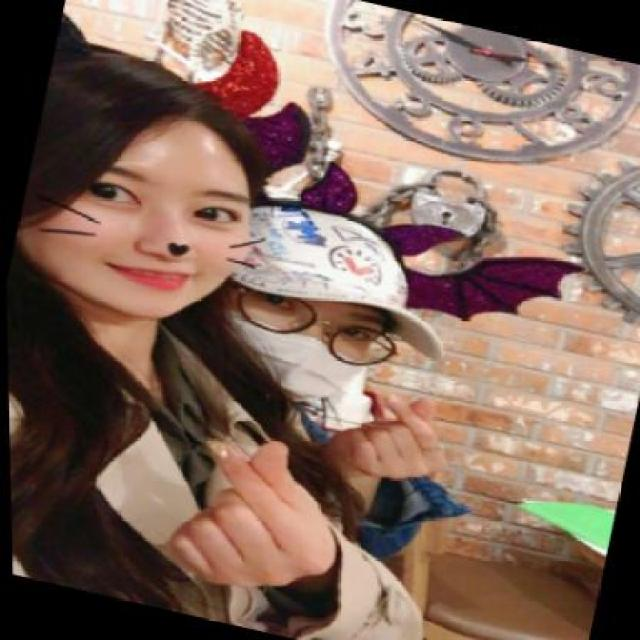hat: (202, 186, 481, 371)
